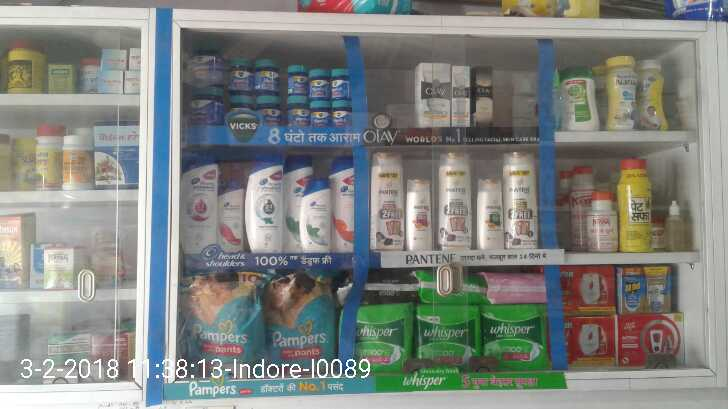beauty: (500, 151, 546, 244), (243, 154, 287, 251), (435, 148, 475, 247), (181, 158, 220, 256), (373, 154, 408, 249), (412, 64, 454, 128), (300, 178, 332, 254), (475, 181, 504, 246), (407, 180, 434, 244), (472, 66, 495, 128), (451, 64, 471, 129)
pharmacy: (183, 51, 353, 136), (180, 270, 264, 374), (267, 270, 346, 370), (482, 303, 553, 361), (419, 303, 482, 361), (356, 306, 410, 362)
